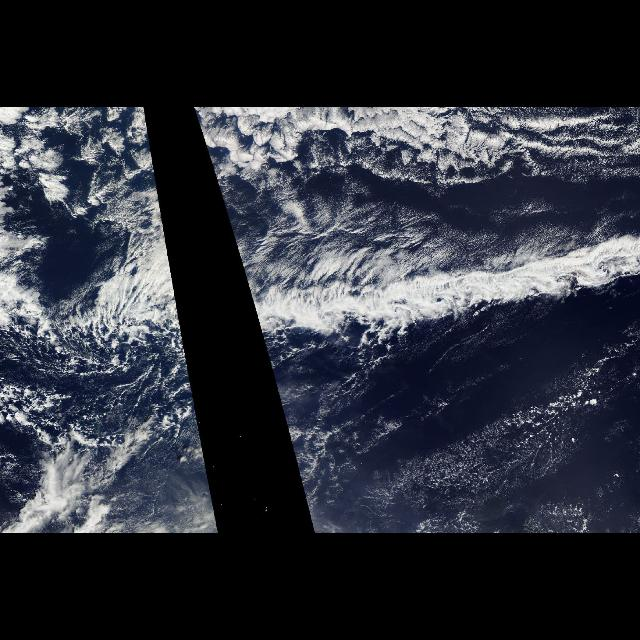Fish: (228, 221, 638, 365), (29, 221, 190, 365)
Gravel: (2, 325, 204, 455)
Sugar: (280, 408, 640, 532), (308, 185, 630, 281), (460, 109, 636, 179)
